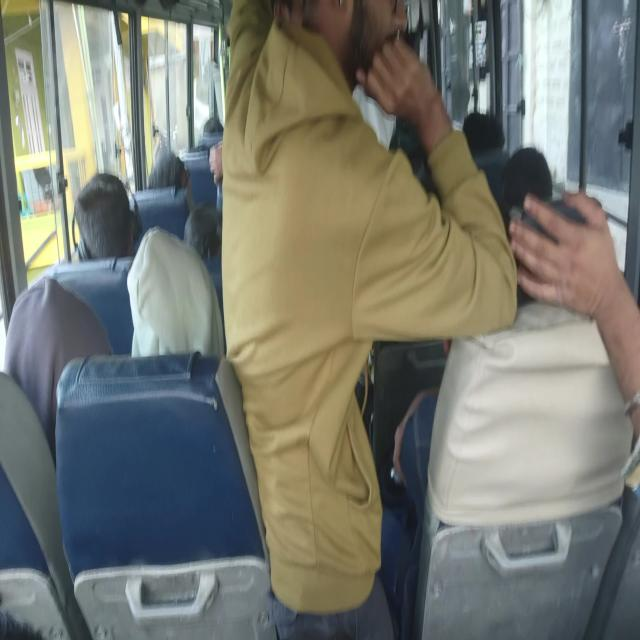person: (219, 1, 518, 637), (500, 146, 639, 439), (4, 275, 113, 462), (126, 225, 225, 358), (72, 171, 140, 261)
